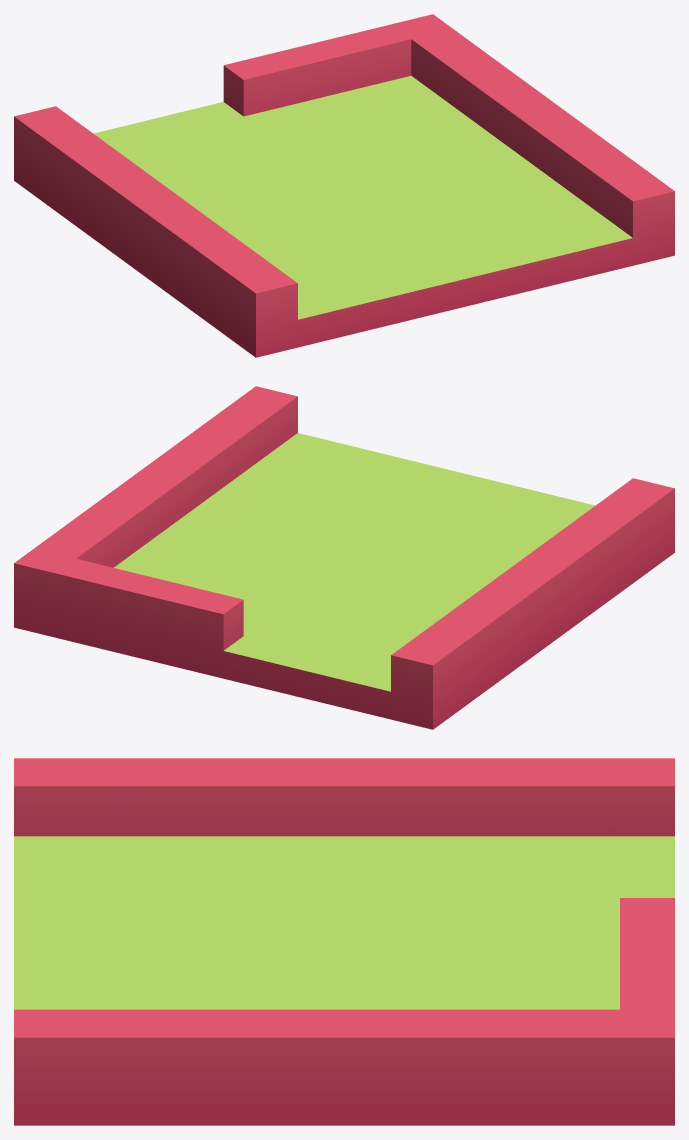
Rendered from wall-left.gltf.
The picture shows the model from 3 angles, top to bottom: view 1: azimuth 30°, elevation 25°; view 2: azimuth 150°, elevation 25°; view 3: azimuth 270°, elevation 25°; orthographic projection. The views are drawn at different scales.
Visible parts, largest first — view 1: wall-left; view 2: wall-left; view 3: wall-left.
Part boxes in pixels (bbox=[...]): wall-left: bbox=[14, 14, 674, 357]; wall-left: bbox=[14, 386, 674, 729]; wall-left: bbox=[14, 758, 674, 1125].
Size of the model in its own units: 0.9999 by 0.1467 by 0.9999.
1 material, 1 textured.
